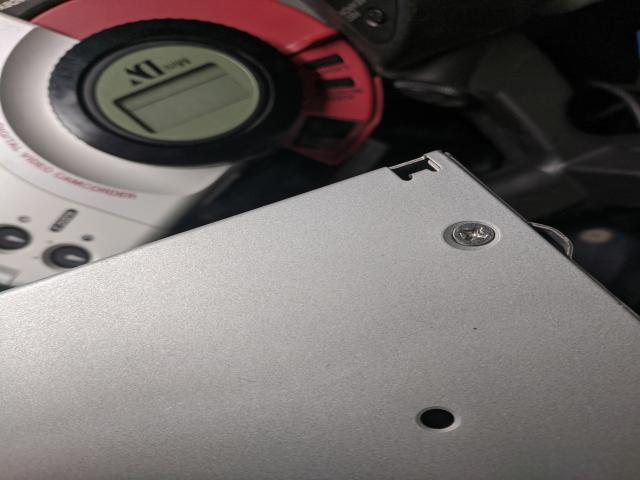CRS: (454, 221, 496, 246)
